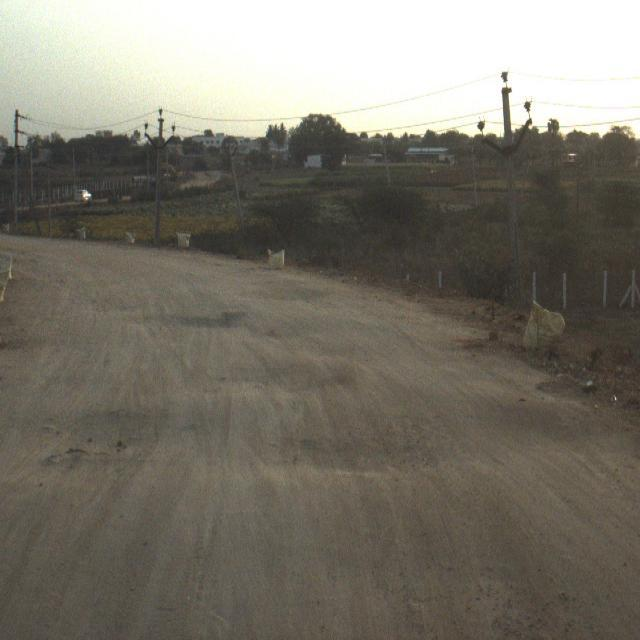Pothole: (400, 559, 638, 640), (269, 418, 473, 478), (31, 399, 141, 479), (221, 356, 374, 400), (188, 279, 270, 340)
